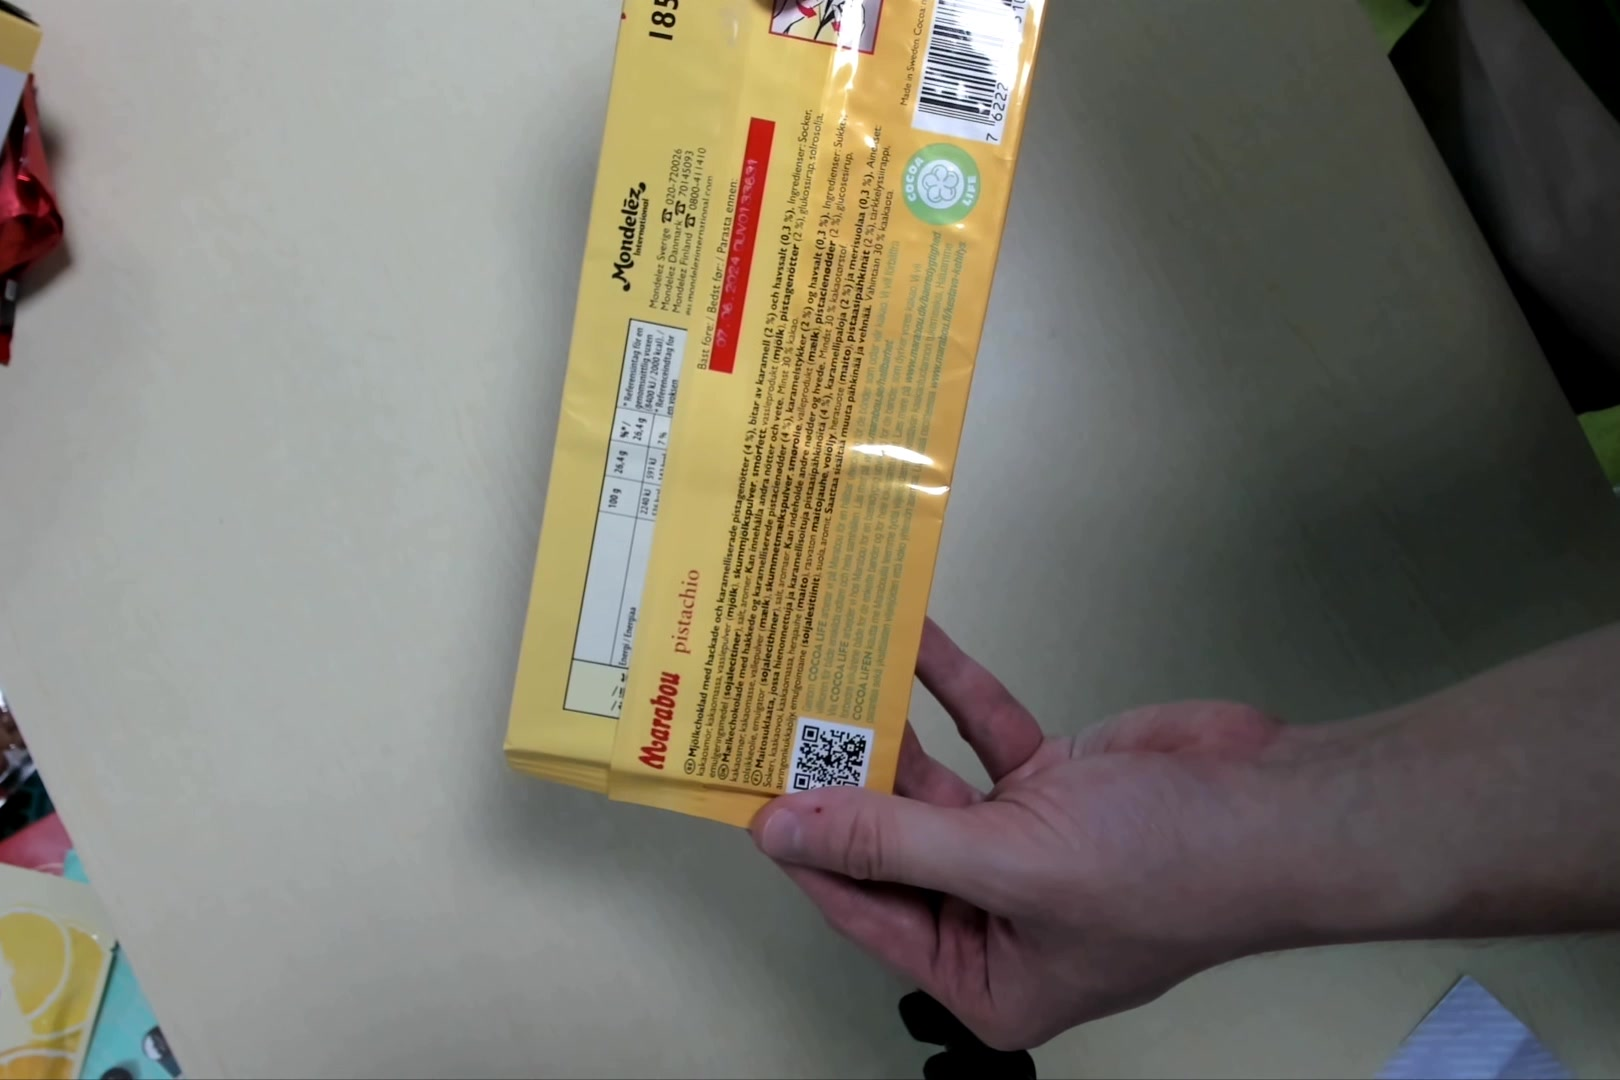SweetsChocolatesOthers_100-199g_NonHalal_NonHealthy: (507, 1, 1044, 863)
